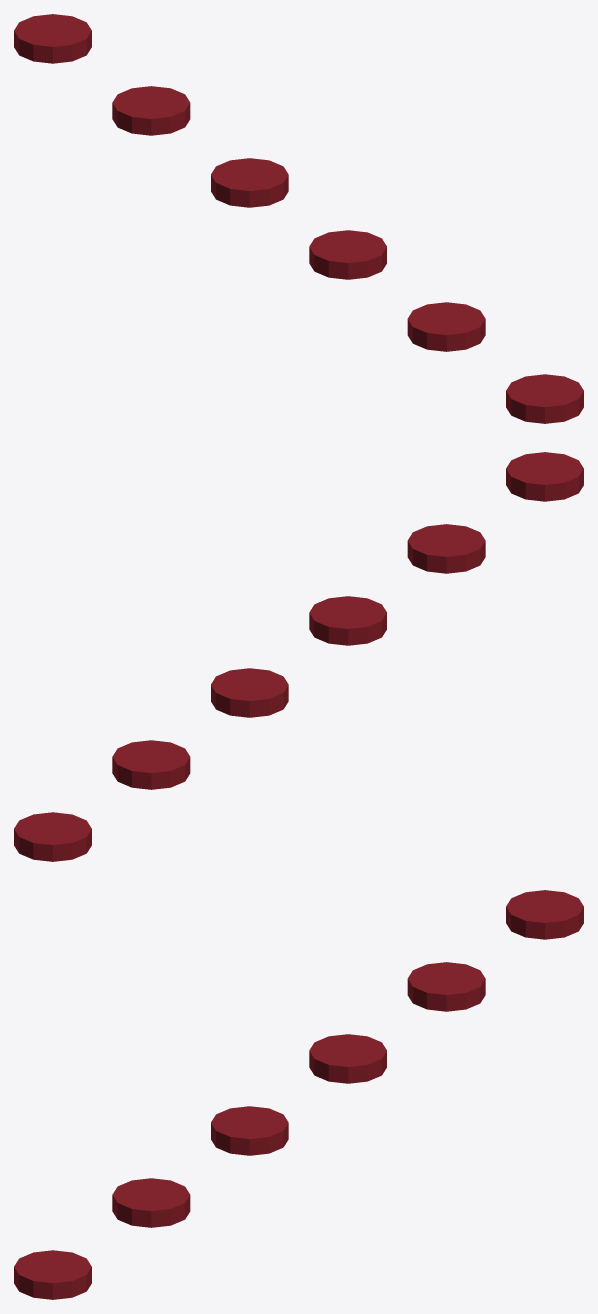
The model's file is BarStoolSeats.fbx.
3 views of the same model, one above another, from view 1: azimuth 30°, elevation 25°; view 2: azimuth 150°, elevation 25°; view 3: azimuth 330°, elevation 25° (orthographic).
Visible parts, largest first — view 1: StoolSeat0.001; view 2: StoolSeat0.001; view 3: StoolSeat0.001.
Part boxes in pixels (left/top/right/bottom): StoolSeat0.001: left=14, top=14, right=583, bottom=423; StoolSeat0.001: left=14, top=452, right=583, bottom=861; StoolSeat0.001: left=14, top=890, right=583, bottom=1299.
Size of the model in its own units: 190 by 45 by 2590.
